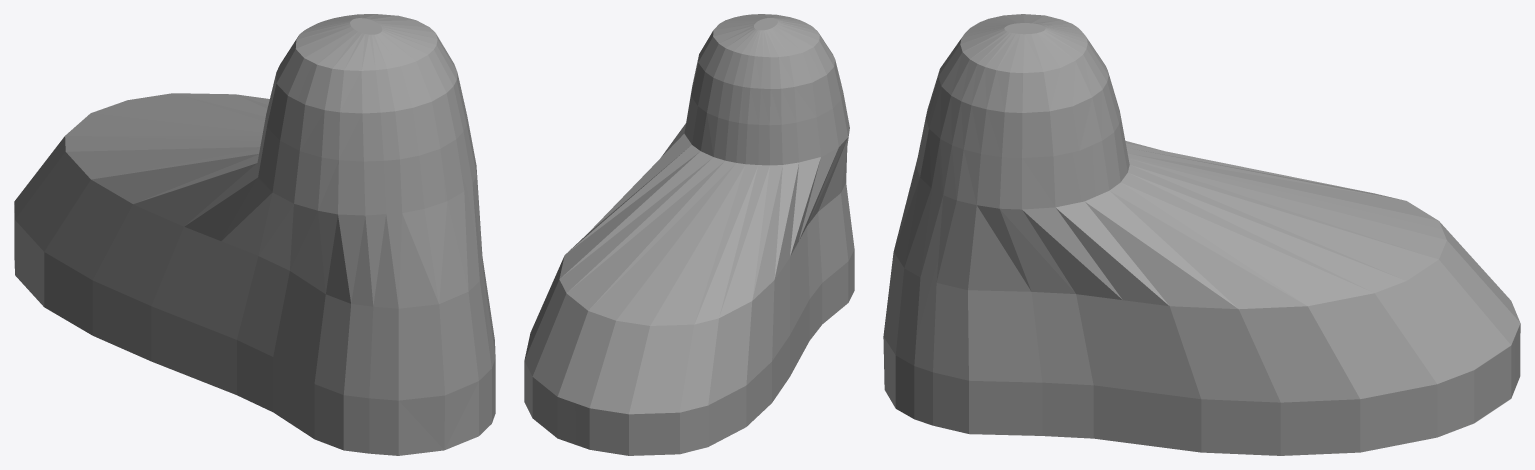
The model's file is footRight.obj.
3 views of the same model, side by side, from view 1: azimuth 30°, elevation 25°; view 2: azimuth 150°, elevation 25°; view 3: azimuth 270°, elevation 25° (orthographic). The views are drawn at different scales.
Visible parts, largest first — view 1: 足_右_立方体.001; view 2: 足_右_立方体.001; view 3: 足_右_立方体.001.
Boxes of the visible parts, <box> form: 足_右_立方体.001: <box>14,14,495,455</box>; 足_右_立方体.001: <box>524,14,854,455</box>; 足_右_立方体.001: <box>883,14,1520,455</box>.
Bounding box in the file's own units: 0.875 × 1.06 × 1.7.
1 material, 1 textured.
